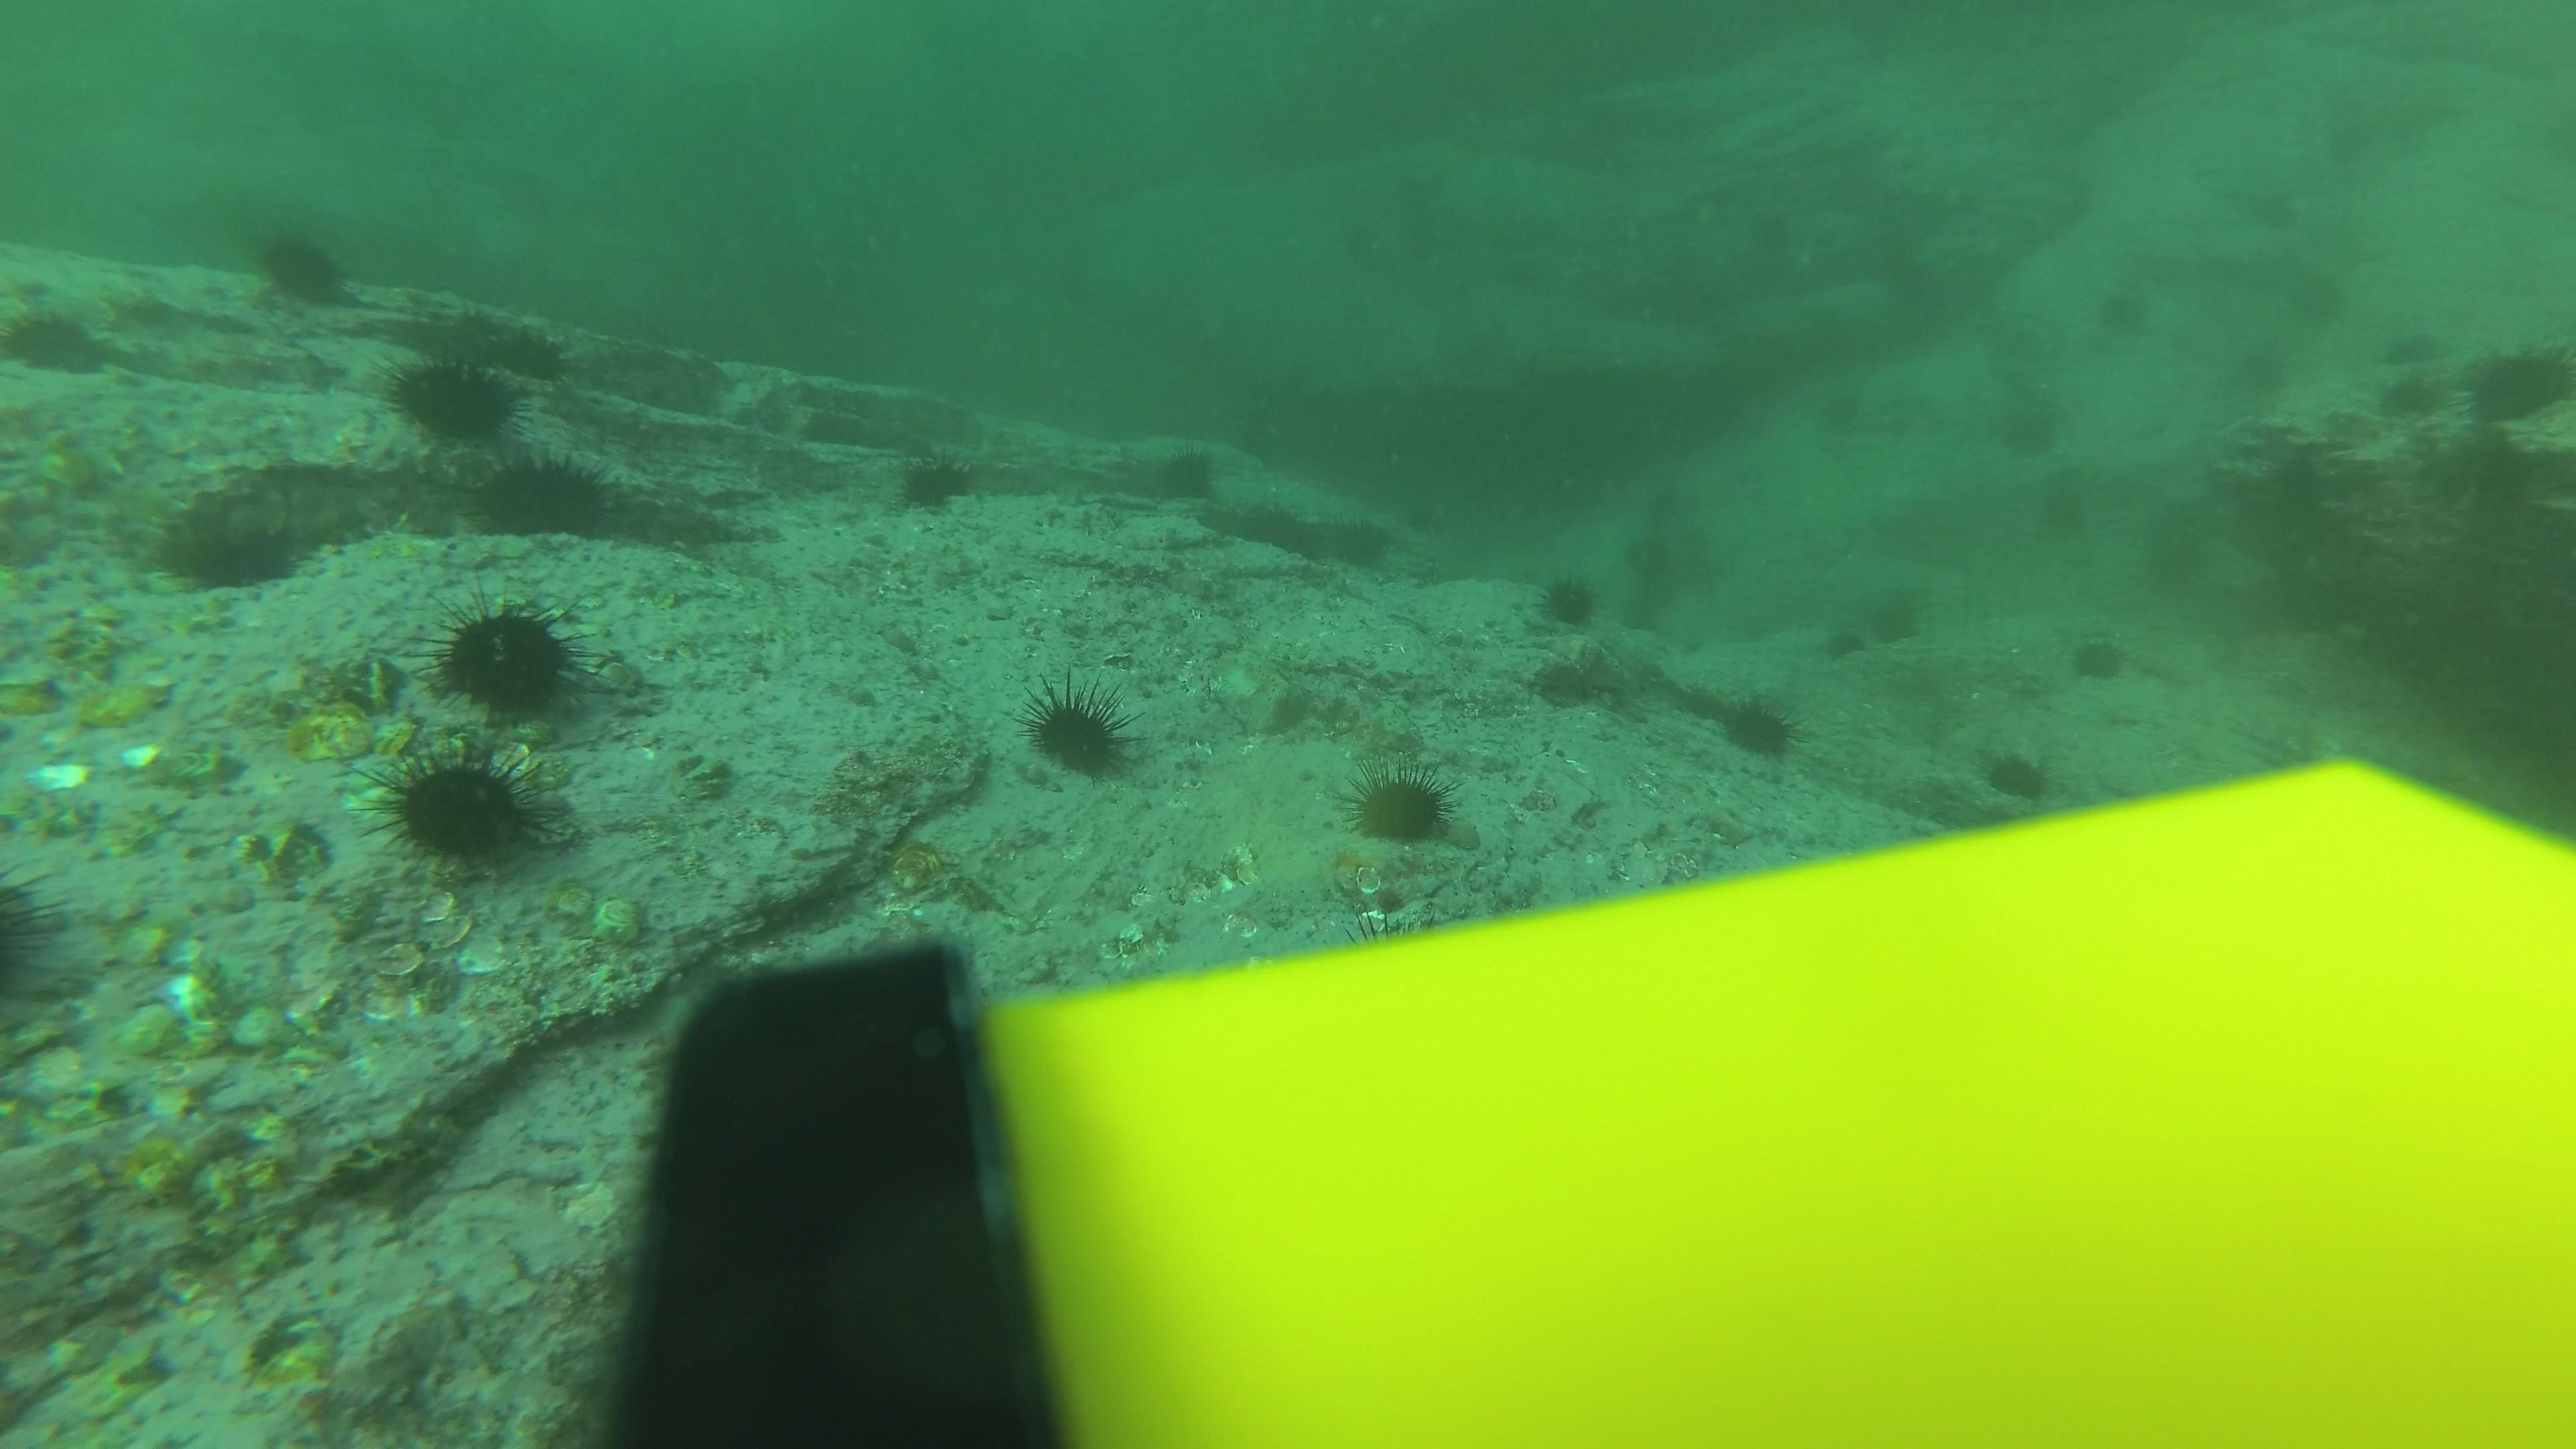echinus: (375, 741, 561, 872), (430, 593, 593, 724), (152, 492, 311, 598), (469, 448, 621, 547), (384, 349, 527, 449), (1021, 679, 1141, 786), (0, 869, 78, 1014), (1341, 761, 1461, 853), (2463, 333, 2574, 428), (248, 221, 359, 313), (2, 294, 111, 382), (1826, 580, 1928, 656), (492, 315, 594, 387), (1711, 688, 1803, 764), (892, 444, 980, 518), (1989, 387, 2068, 464), (2390, 363, 2470, 439), (2266, 258, 2346, 334), (2084, 267, 2164, 341), (2381, 311, 2461, 386), (2238, 161, 2318, 235), (2235, 336, 2312, 410), (1322, 510, 1399, 575), (1978, 743, 2058, 807), (1529, 568, 1605, 633), (1152, 442, 1223, 506), (1626, 518, 1691, 586), (2028, 474, 2093, 541), (1637, 472, 1702, 538), (1737, 191, 1803, 257), (1810, 375, 1874, 442), (2065, 626, 2132, 688)
